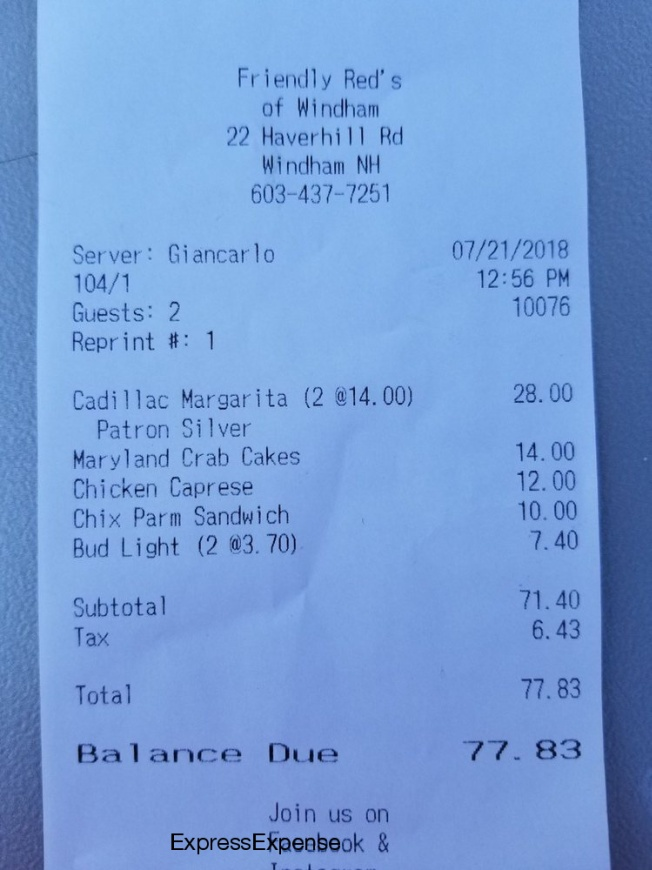Additional details: (245, 797, 406, 870)
Purchase summary: (49, 227, 595, 774)
Receipt: (39, 3, 615, 870)
Shop details: (211, 39, 421, 210)
